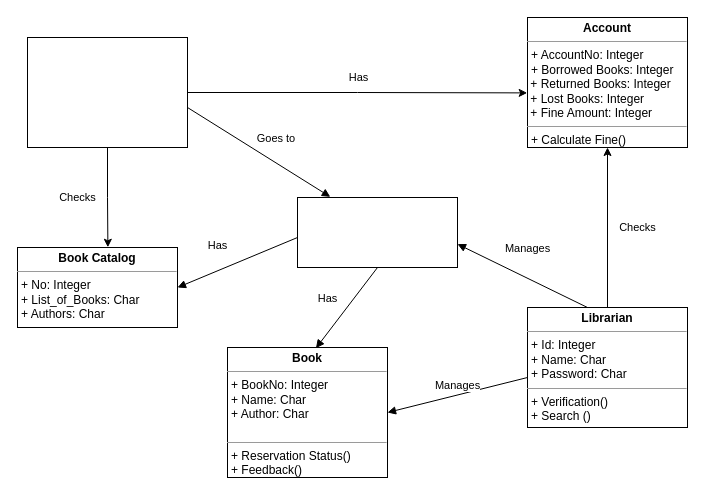
Image size: 705x495. Some labels were removed from this diagram. Here are the shapes that lost their labels. From the top down, the box of each, then its label:
(26, 36, 188, 148): User + UserId: Integer + Name: Char + Check account validity() + get_info()
(296, 196, 458, 268): Liberary + Name: Char + Address: Char
